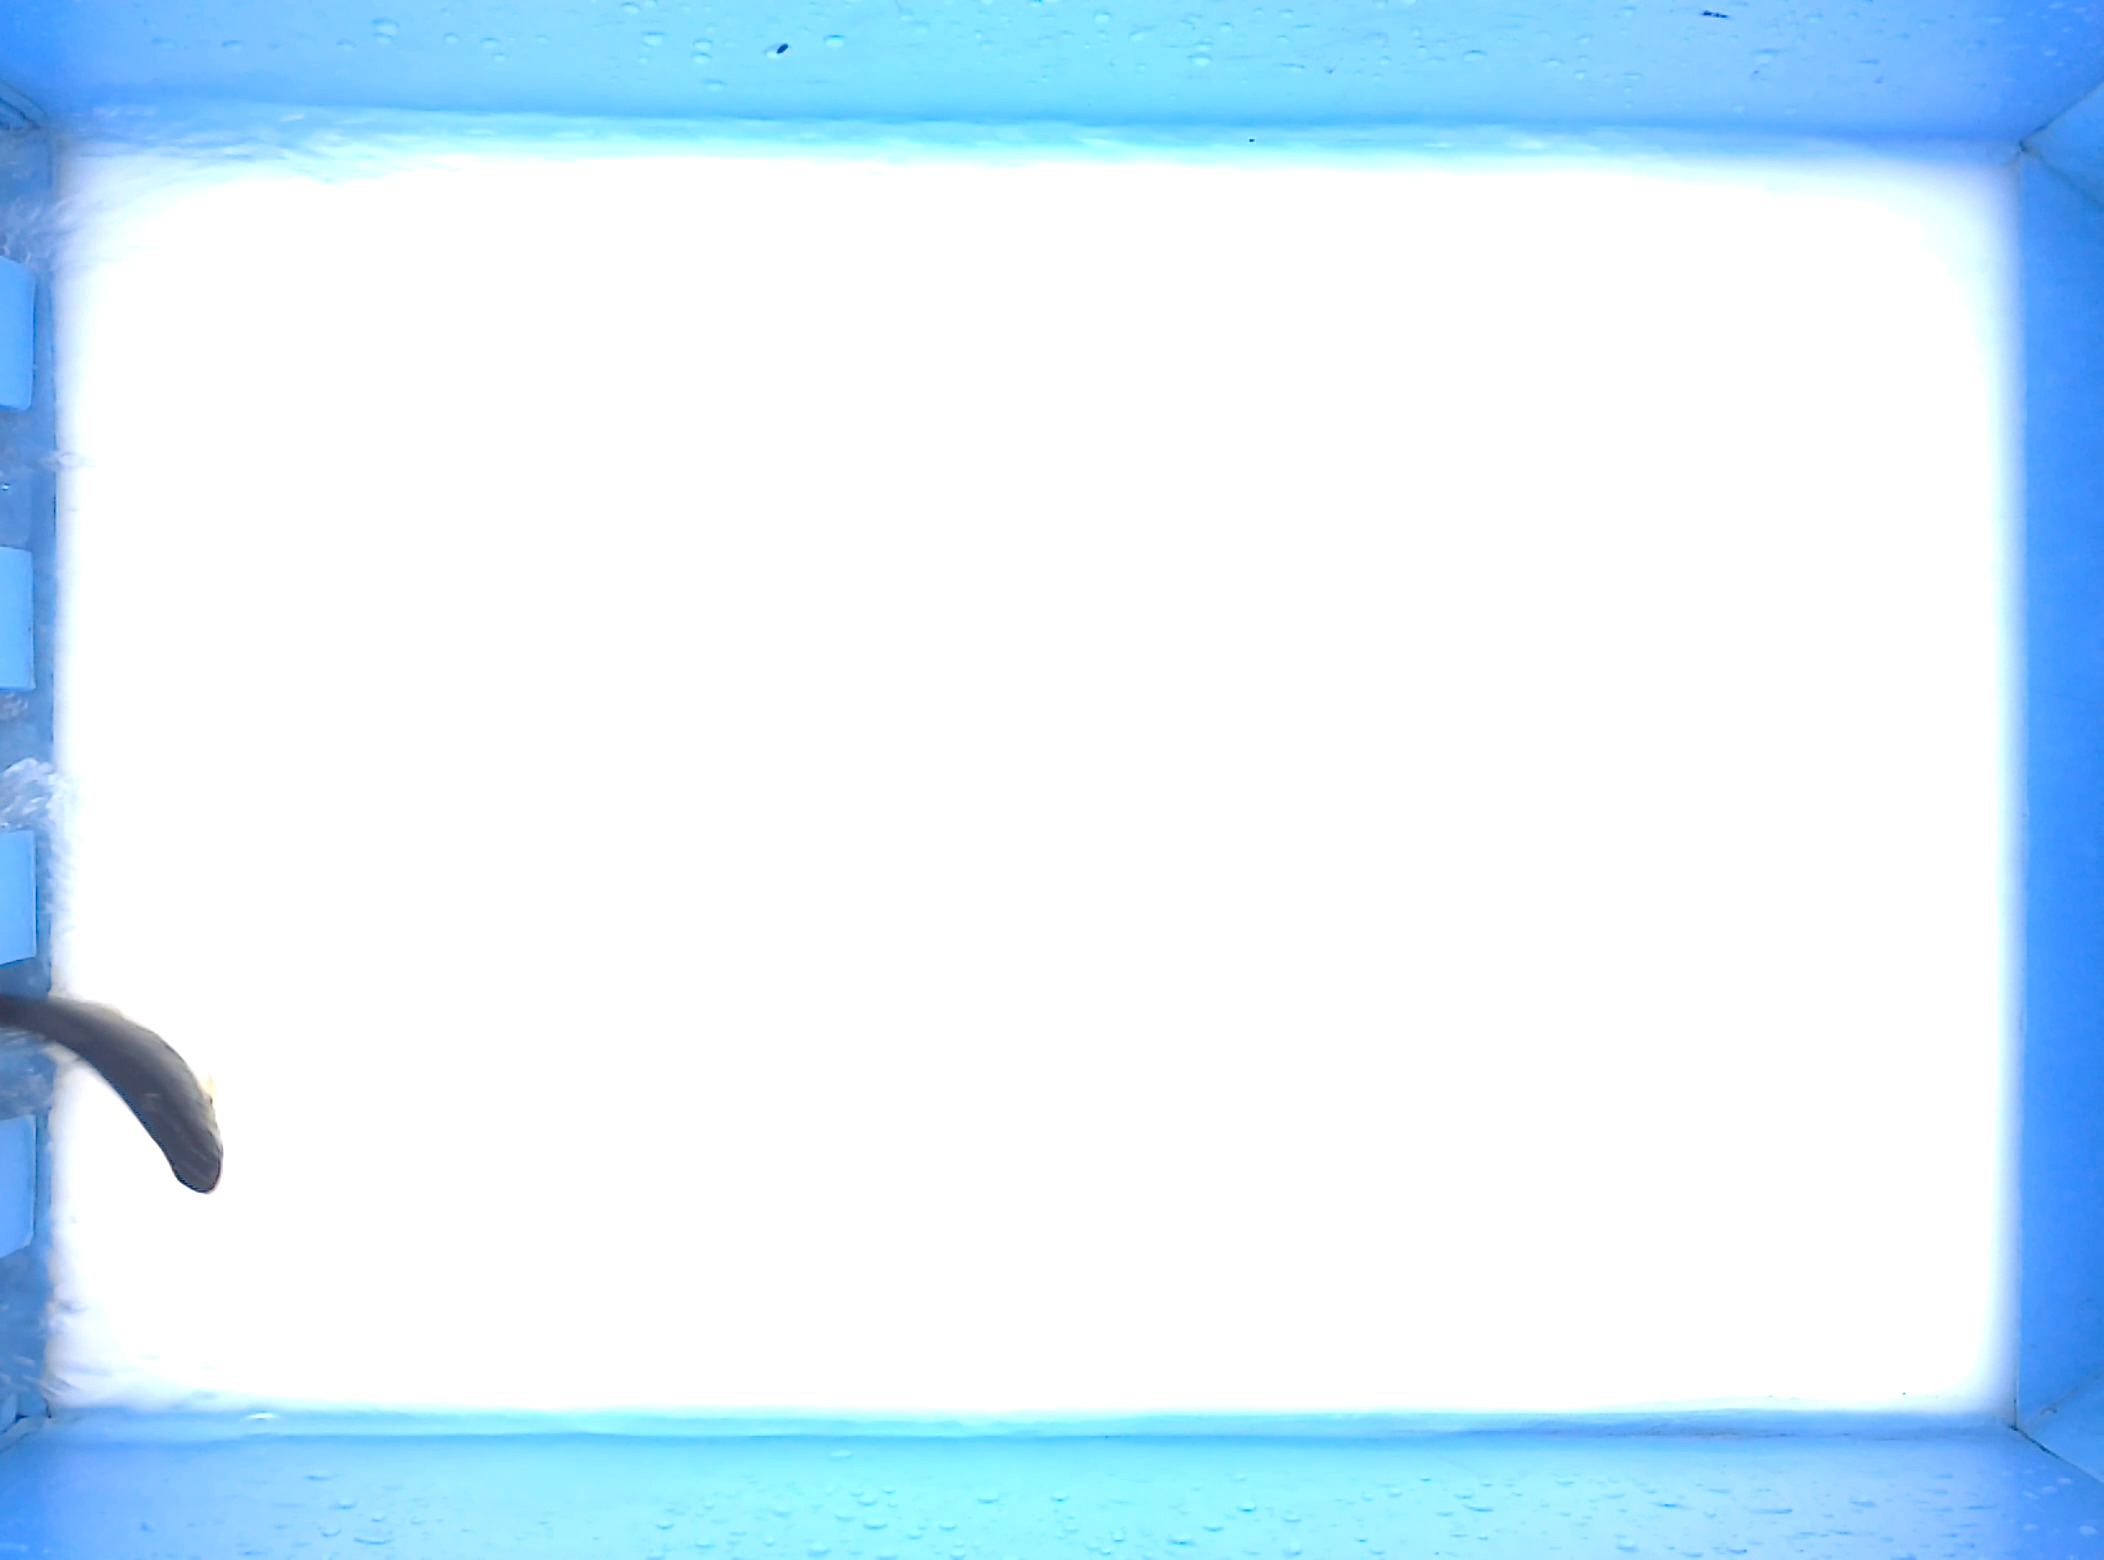fish: (2, 986, 226, 1198)
